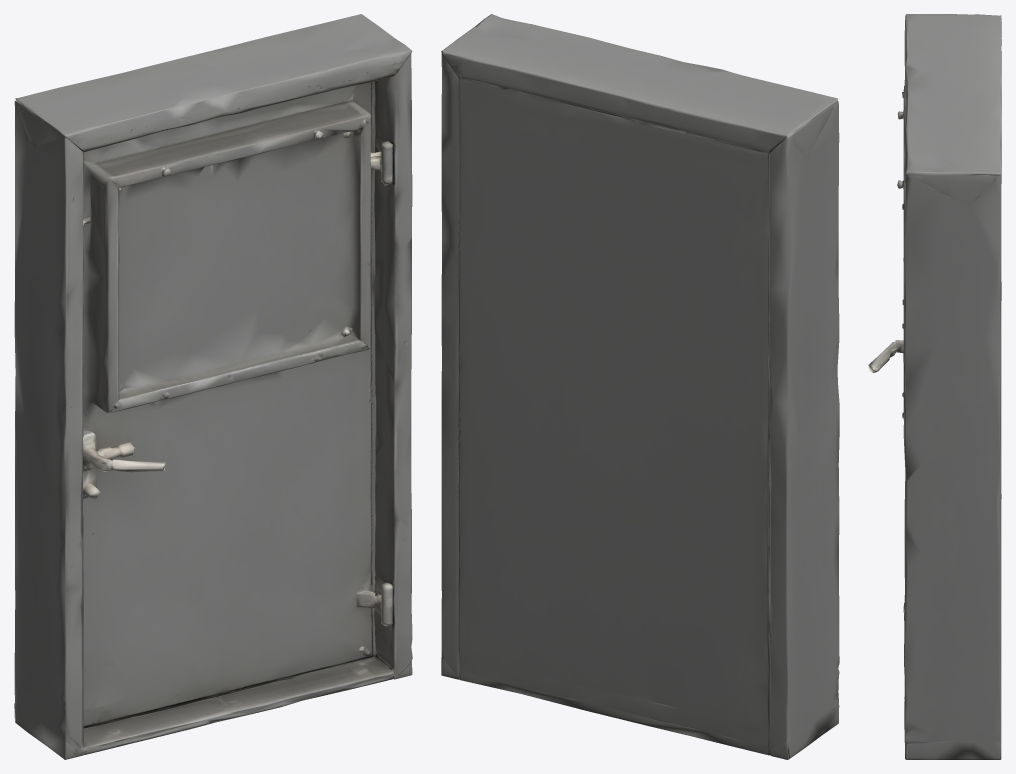
Rendered from level1-metal-door.glb.
3 renders of one model, left to right at view 1: azimuth 30°, elevation 25°; view 2: azimuth 150°, elevation 25°; view 3: azimuth 270°, elevation 25°, orthographic. The views are drawn at different scales.
Visible parts, largest first — view 1: tripo_node_db3442c9-0cf1-48be-9092-eab76706092a; view 2: tripo_node_db3442c9-0cf1-48be-9092-eab76706092a; view 3: tripo_node_db3442c9-0cf1-48be-9092-eab76706092a.
Part boxes in pixels (bbox=[...]): tripo_node_db3442c9-0cf1-48be-9092-eab76706092a: bbox=[14, 14, 412, 759]; tripo_node_db3442c9-0cf1-48be-9092-eab76706092a: bbox=[441, 14, 839, 759]; tripo_node_db3442c9-0cf1-48be-9092-eab76706092a: bbox=[868, 14, 1001, 759].
Bounding box in the file's own units: 0.5711 × 0.9785 × 0.2011.
1 material, 1 textured.
